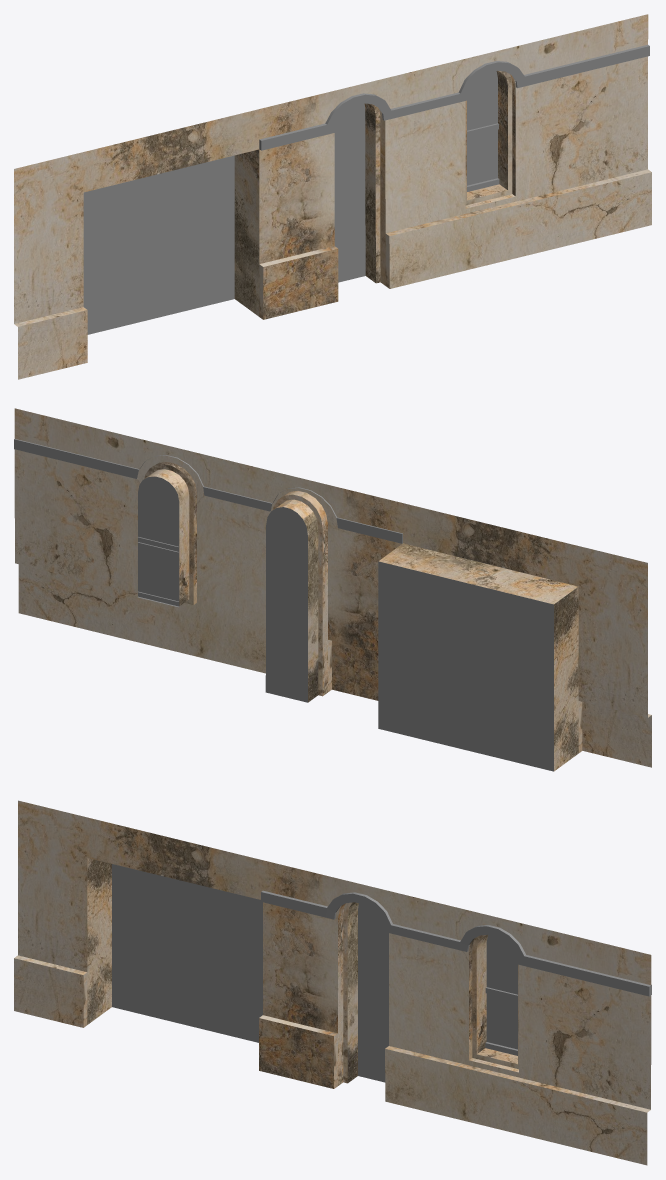
Rendered from Batiment_2_Poste_Grarage.FBX.
3 views of the same model, one above another, from view 1: azimuth 30°, elevation 25°; view 2: azimuth 150°, elevation 25°; view 3: azimuth 330°, elevation 25° (orthographic).
Parts seen in each view (by area): view 1: Object011; view 2: Object011; view 3: Object011.
Part boxes in pixels (x1,y1,x2,y2): Object011: [14, 14, 651, 379]; Object011: [14, 408, 651, 771]; Object011: [14, 800, 651, 1165].
Bounding box in the file's own units: 533 × 41.57 × 167.
3 materials, 1 textured.
